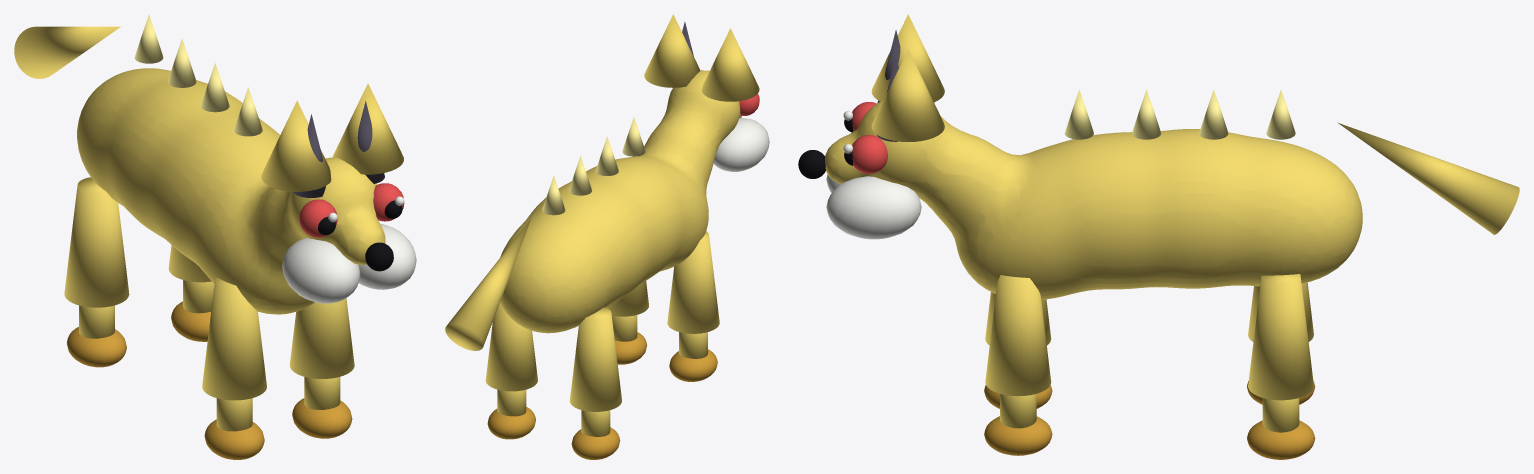
File: Kirin.obj
3 views of the same model, side by side, from view 1: azimuth 30°, elevation 25°; view 2: azimuth 150°, elevation 25°; view 3: azimuth 270°, elevation 25° (orthographic). The views are drawn at different scales.
Parts seen in each view (by area): view 1: Kirin; view 2: Kirin; view 3: Kirin.
Part boxes in pixels (box(x1,y1,x2,y2)): Kirin: box(14, 14, 416, 459); Kirin: box(445, 14, 769, 459); Kirin: box(798, 14, 1519, 459).
Bounding box in the file's own units: 1.54 × 3.6 × 5.9.
